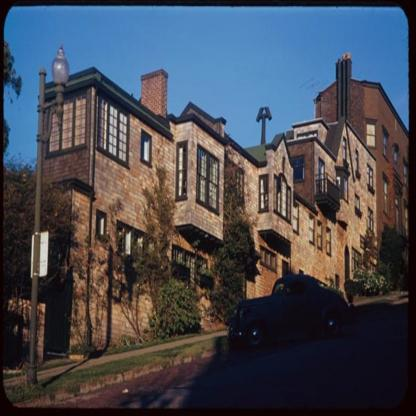Car: (247, 279, 362, 343)
